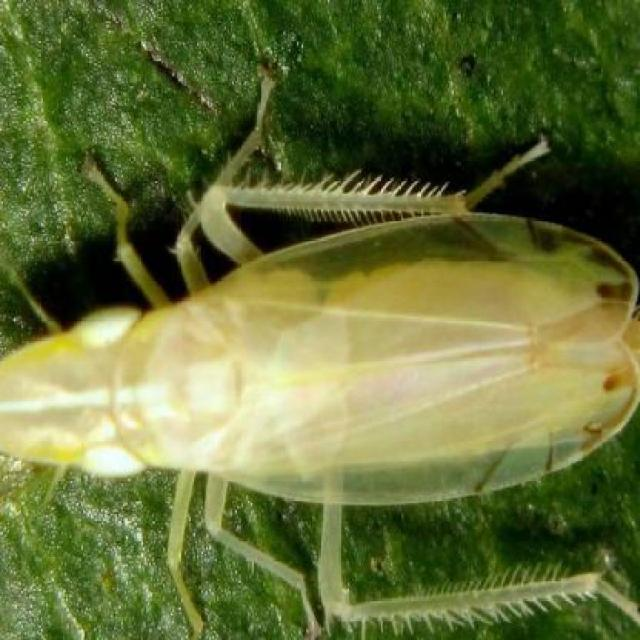green-leafhopper: (4, 229, 640, 508)
